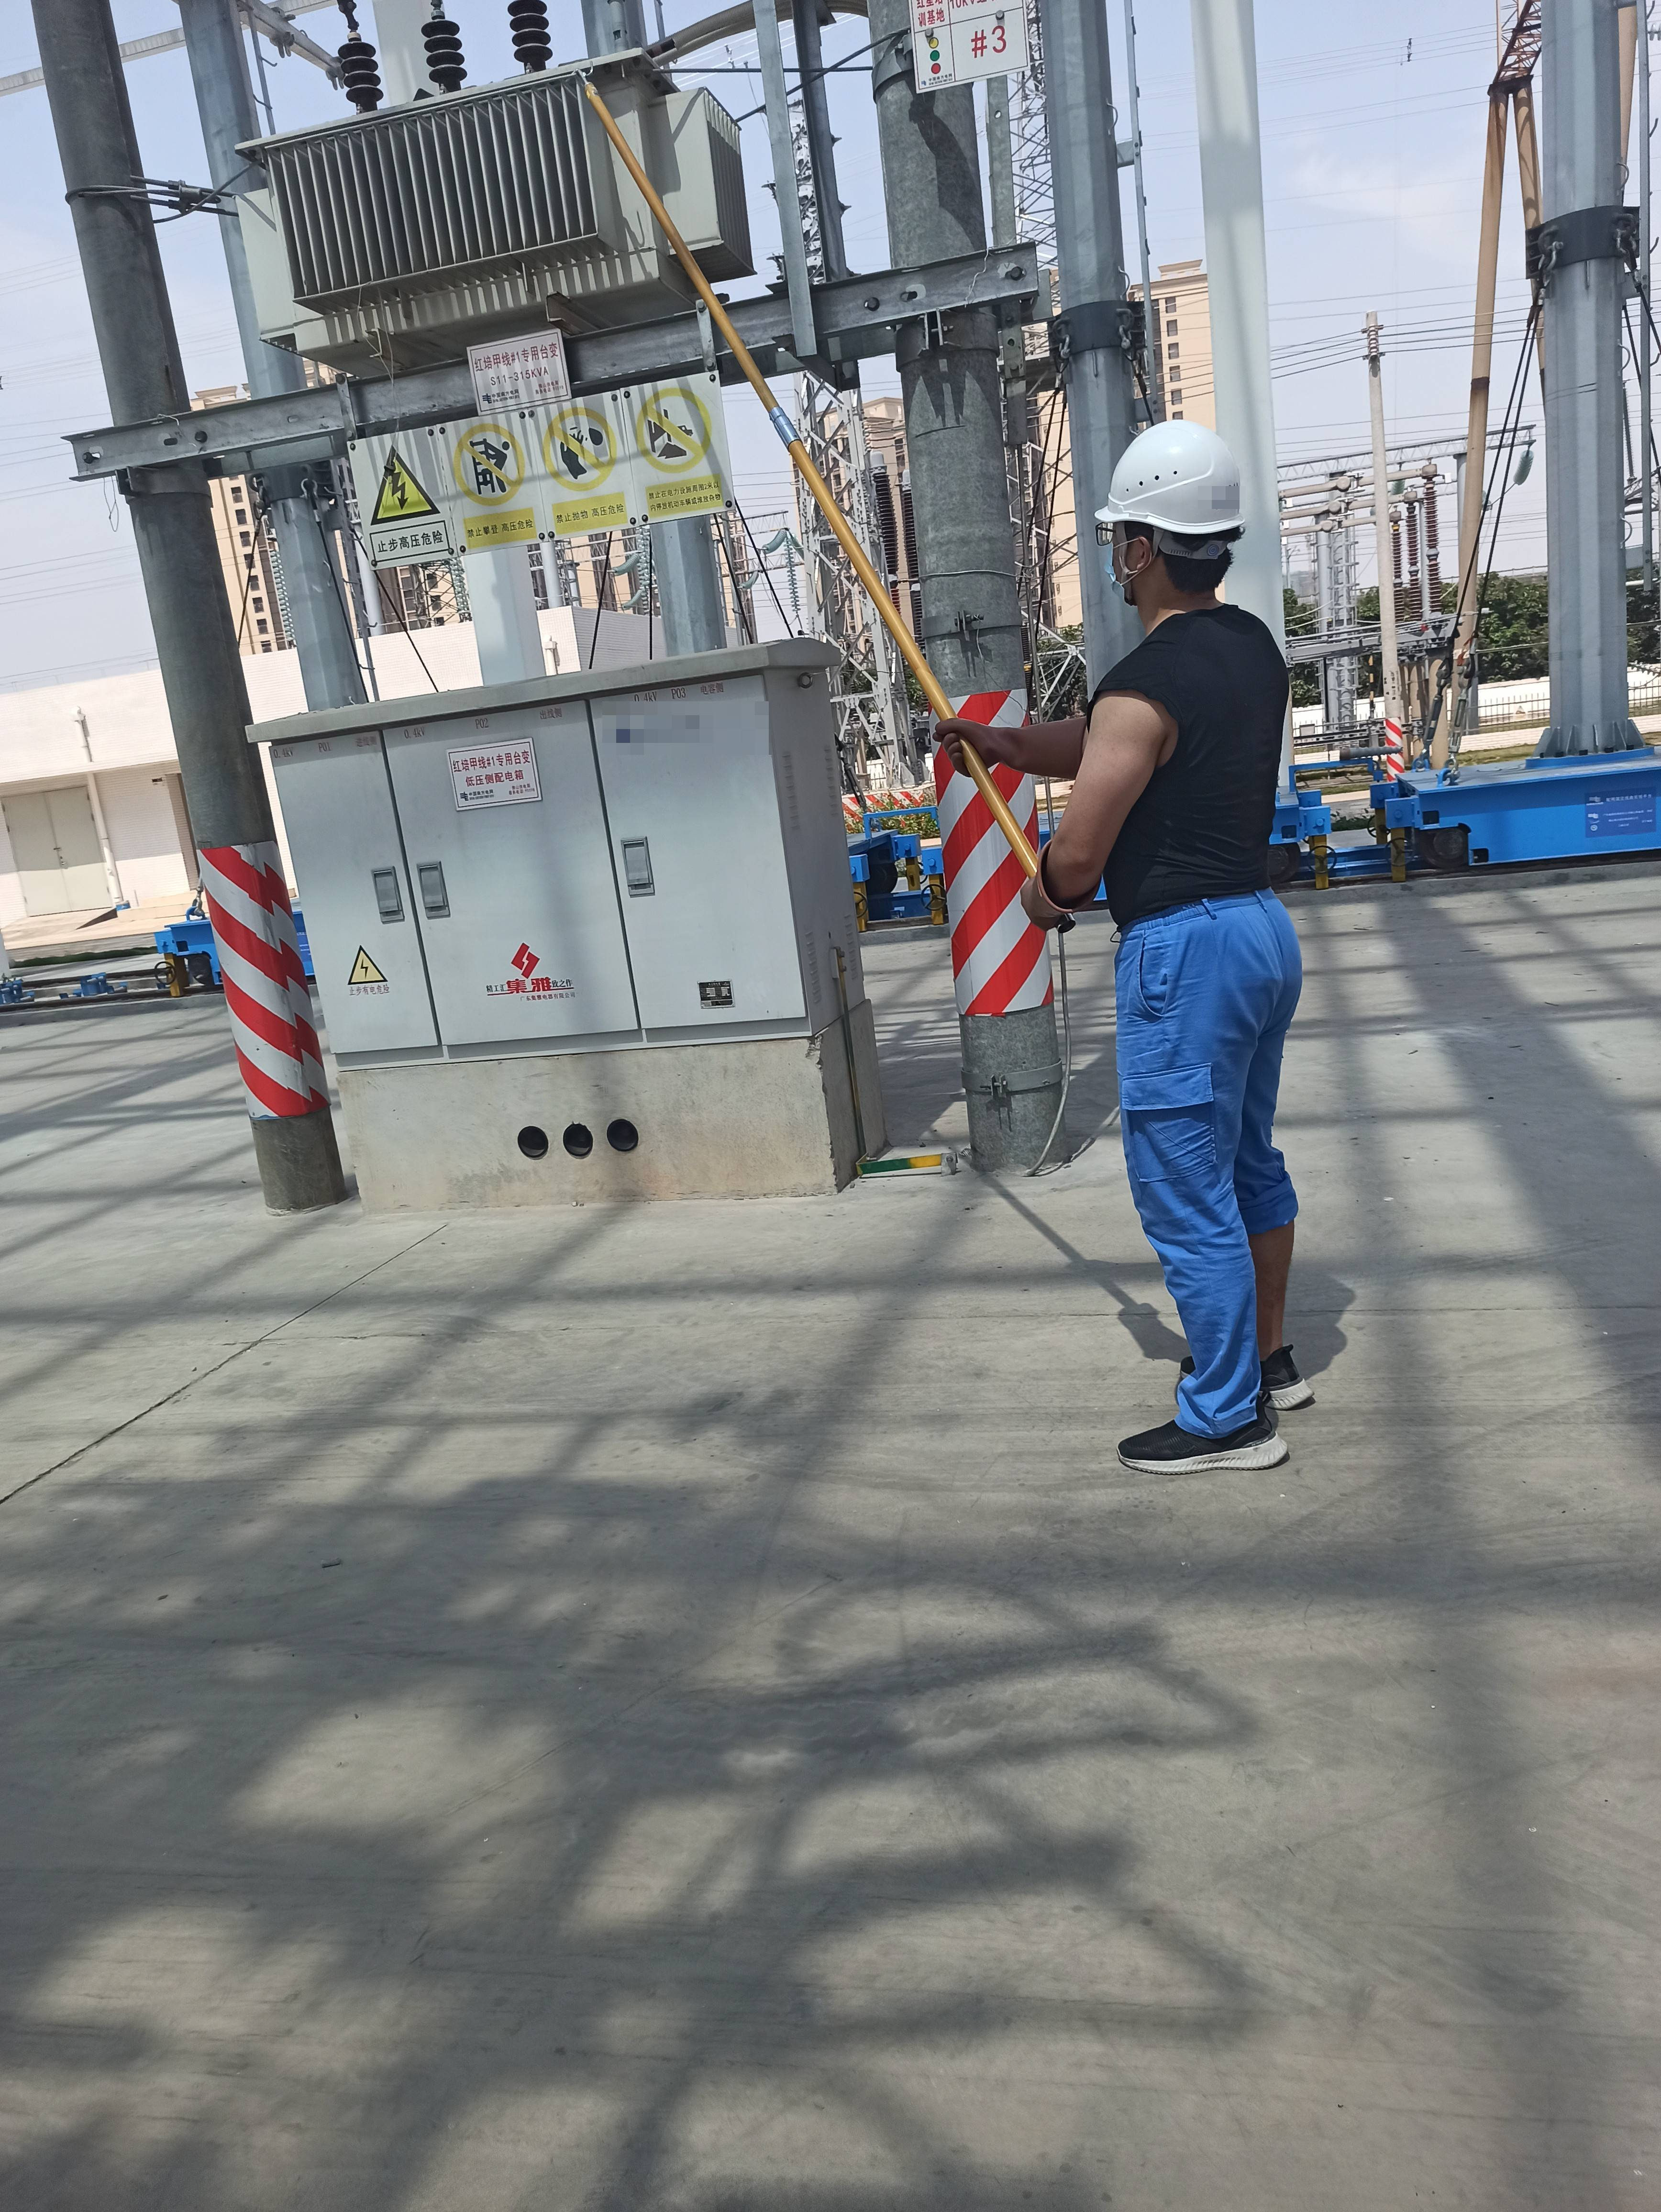downsuit: (1101, 890, 1331, 1439)
upcloth: (1080, 595, 1310, 919)
wrongbottom: (1237, 1164, 1317, 1382)
